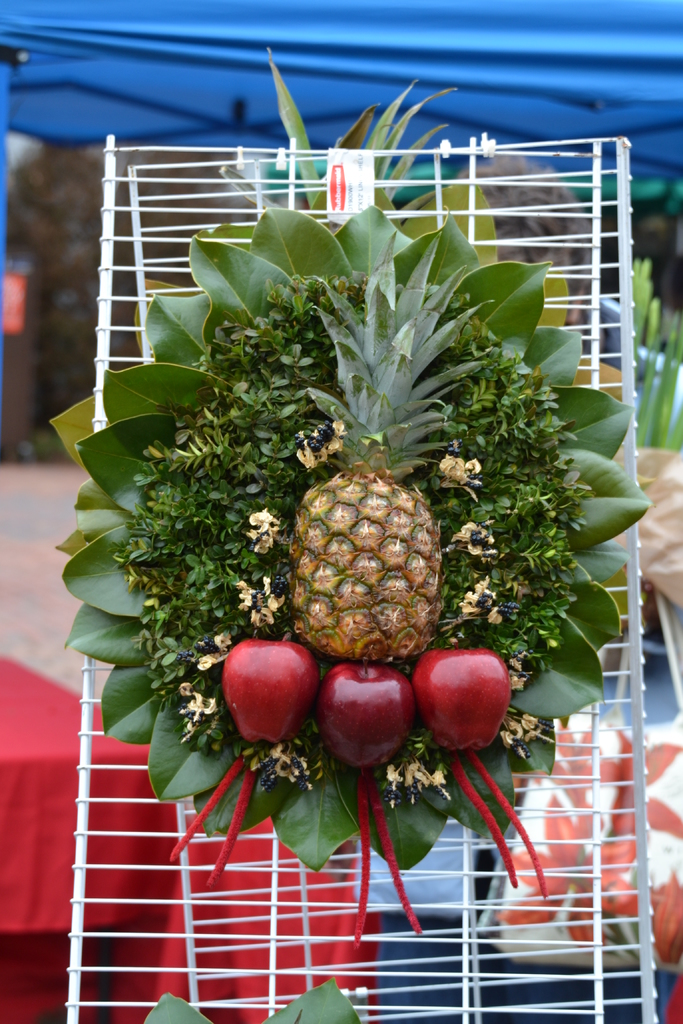Apple: (215, 640, 320, 753), (320, 659, 415, 771), (410, 646, 509, 751)
